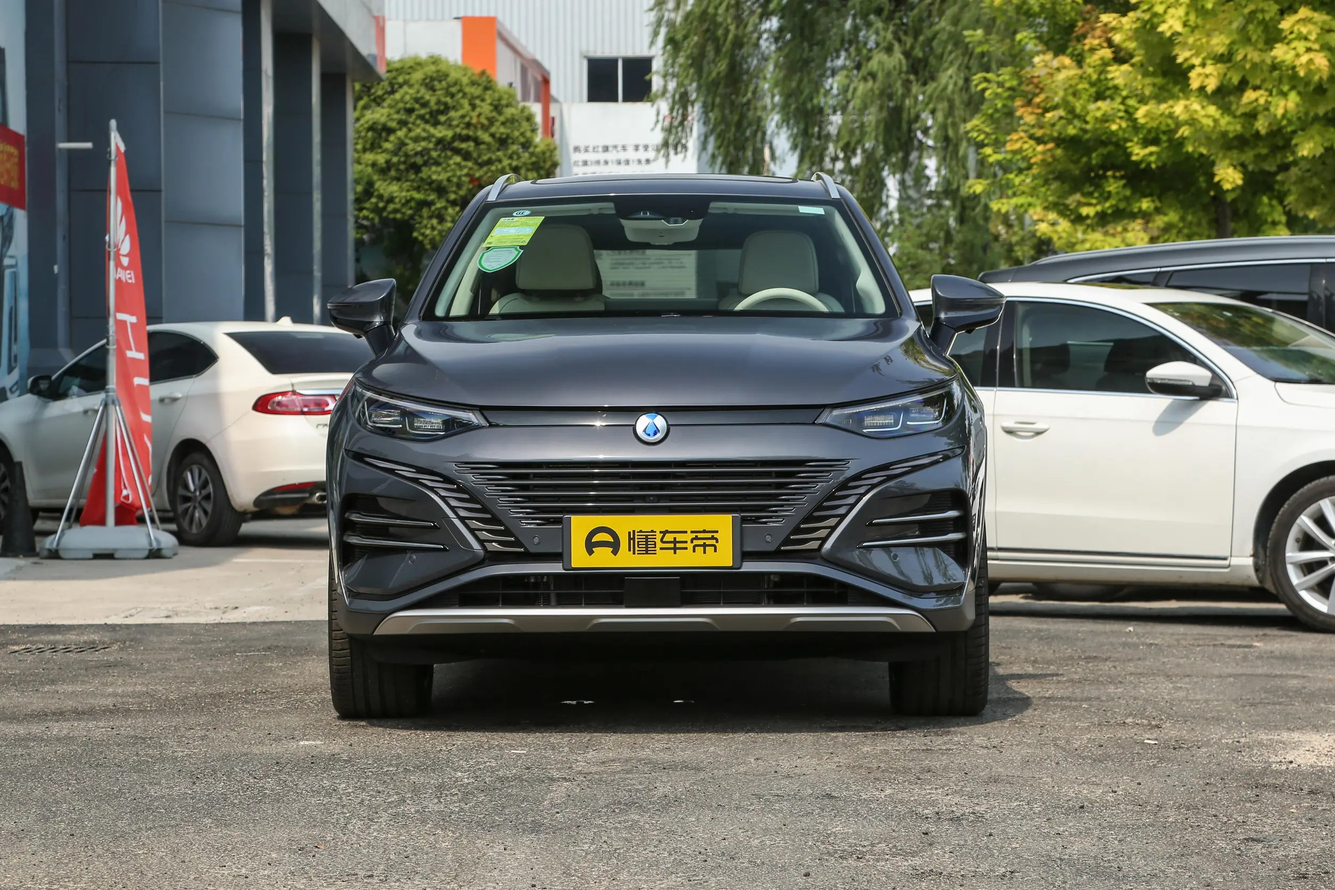DENZA: (636, 413, 666, 441)
